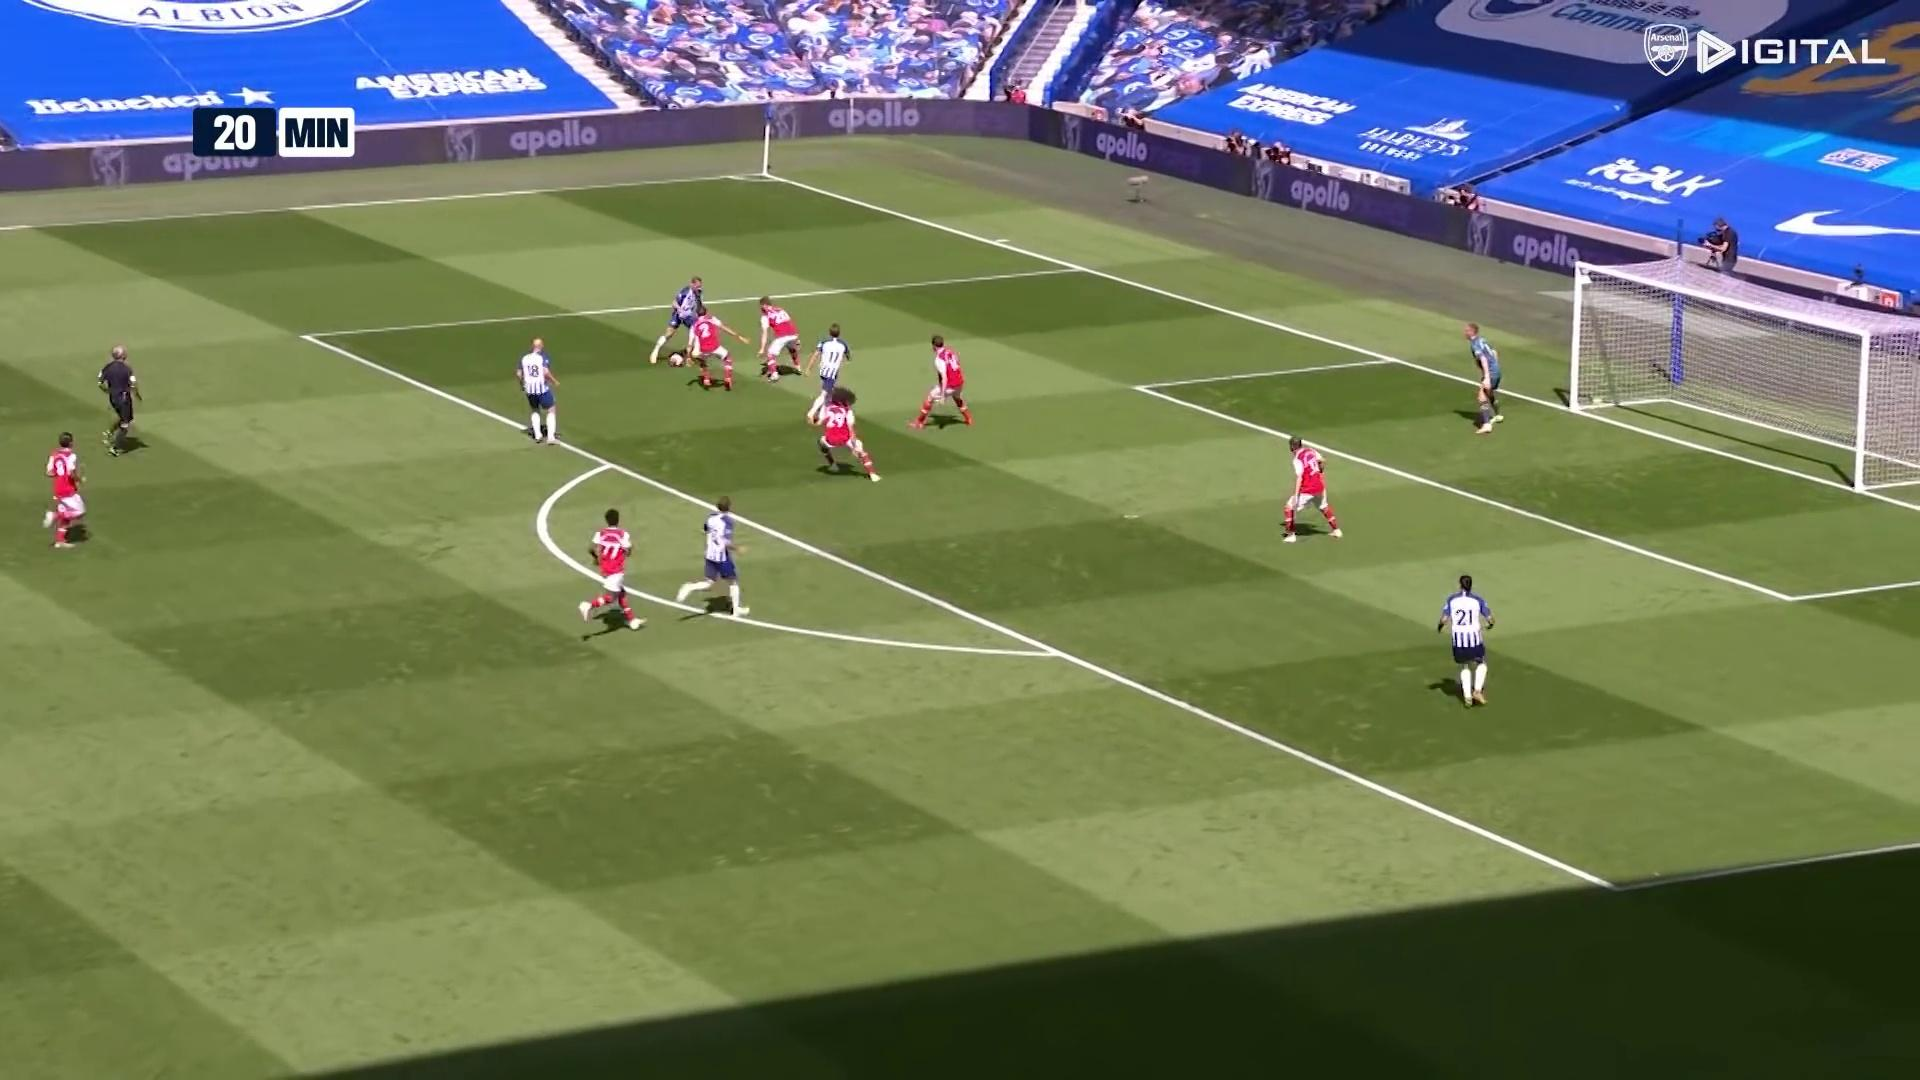ball: (667, 352, 685, 369)
goalkeeper: (1454, 319, 1510, 436)
player: (676, 493, 756, 620), (579, 505, 648, 635), (1435, 573, 1497, 710), (1276, 432, 1345, 545), (810, 384, 884, 487), (905, 331, 976, 434), (40, 429, 96, 552), (515, 333, 567, 452), (650, 275, 710, 370), (753, 294, 807, 389), (805, 324, 854, 428), (685, 300, 738, 393)
referee: (97, 341, 146, 458)
